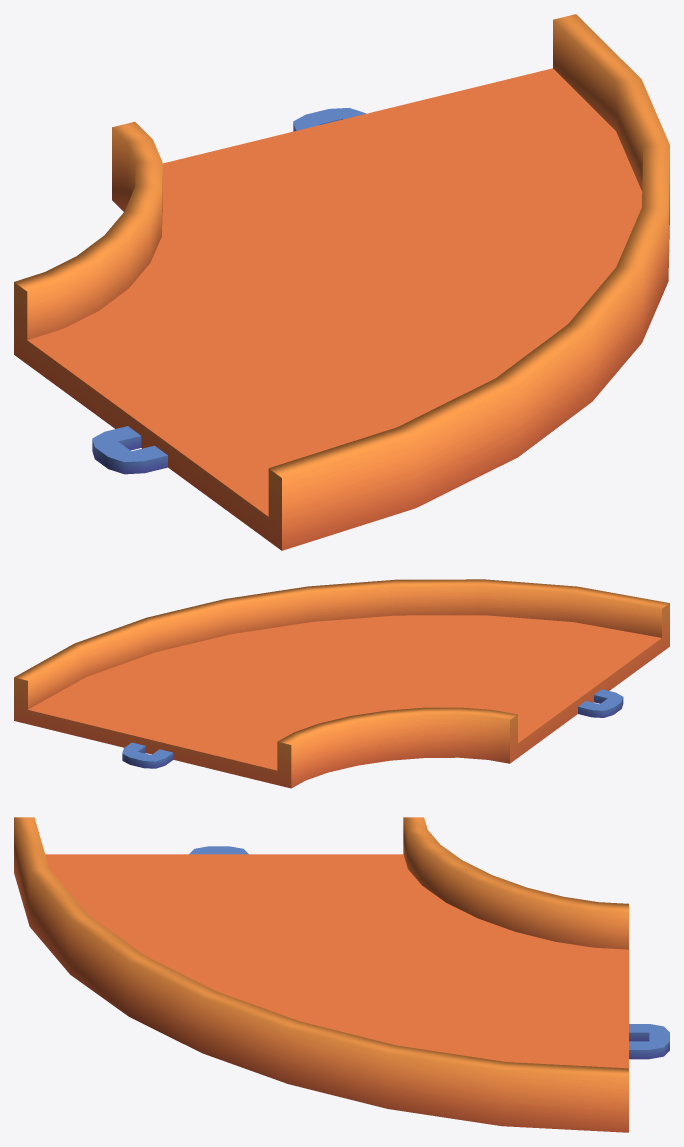
File: track-wide-corner-small.glb
3 renders of one model, top to bottom at view 1: azimuth 30°, elevation 25°; view 2: azimuth 150°, elevation 25°; view 3: azimuth 270°, elevation 25°, orthographic. The views are drawn at different scales.
Visible parts, largest first — view 1: track-wide-corner-small; view 2: track-wide-corner-small; view 3: track-wide-corner-small.
Boxes of the visible parts, x1,y1,x2,y2 form: track-wide-corner-small: (14, 14, 669, 550); track-wide-corner-small: (14, 579, 669, 788); track-wide-corner-small: (14, 817, 669, 1132).
Size of the model in its own units: 3.2 by 0.3 by 3.2.
1 material, 1 textured.
